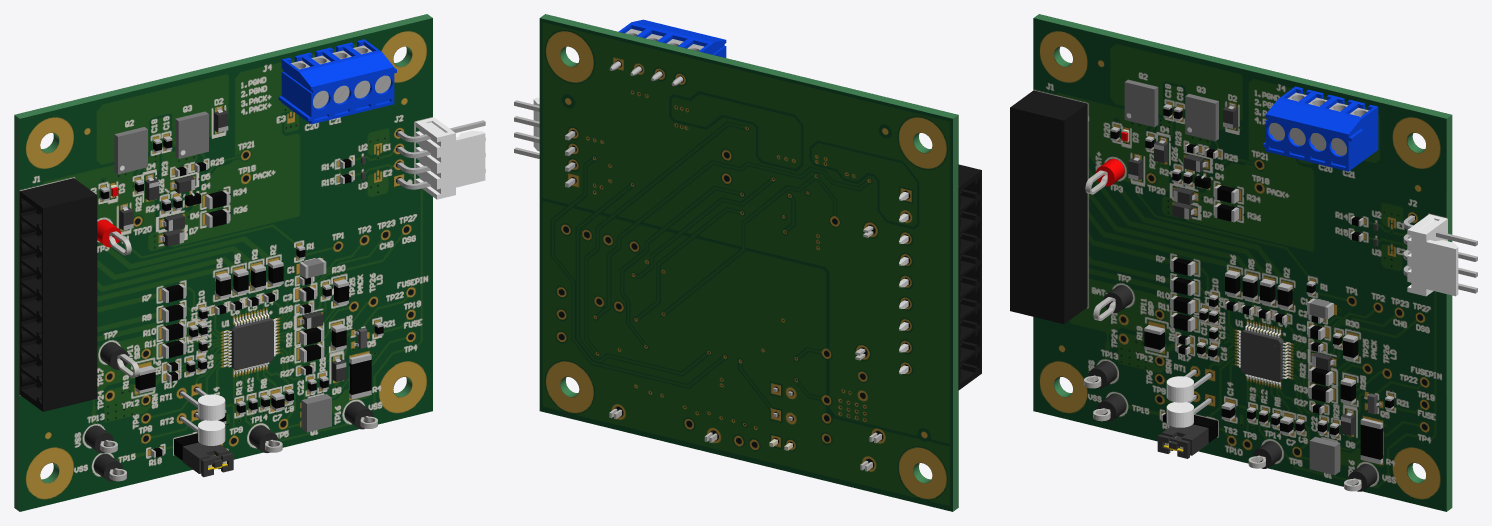
The model's file is Knight_EPS_BMS_Final_green.glb.
The picture shows the model from 3 angles, left to right: view 1: azimuth 30°, elevation 25°; view 2: azimuth 150°, elevation 25°; view 3: azimuth 330°, elevation 25°; orthographic projection.
Parts seen in each view (by area): view 1: Authentic_top_Gerber_layers, CAD_part_030_material0, CAD_part_027_material0, PCB_board_material0, CAD_part_029_material0, CAD_part_036_material0, CAD_part_009_material1, CAD_part_069_material1, CAD_part_027_material1, CAD_part_045_material1, CAD_part_029_material1, CAD_part_070_material0 (+4 smaller); view 2: Authentic_bottom_Gerber_layers, PCB_board_material0, CAD_part_030_material0, CAD_part_027_material0, CAD_part_029_material1, CAD_part_030_material1, CAD_part_027_material1; view 3: Authentic_top_Gerber_layers, CAD_part_030_material0, CAD_part_027_material0, PCB_board_material0, CAD_part_029_material0, CAD_part_036_material0, CAD_part_069_material1, CAD_part_009_material1, CAD_part_027_material1, CAD_part_045_material1, CAD_part_070_material0, CAD_part_029_material1 (+4 smaller).
Boxes of the visible parts, x1=… form: Authentic_top_Gerber_layers: x1=19, y1=18, x2=432, y2=511; CAD_part_030_material0: x1=19, y1=178, x2=97, y2=411; CAD_part_027_material0: x1=278, y1=39, x2=396, y2=124; PCB_board_material0: x1=14, y1=14, x2=432, y2=511; CAD_part_029_material0: x1=415, y1=117, x2=485, y2=199; CAD_part_036_material0: x1=230, y1=317, x2=273, y2=370; CAD_part_009_material1: x1=175, y1=111, x2=208, y2=158; CAD_part_069_material1: x1=114, y1=127, x2=147, y2=174; CAD_part_027_material1: x1=291, y1=45, x2=390, y2=108; CAD_part_045_material1: x1=182, y1=442, x2=233, y2=477; CAD_part_029_material1: x1=397, y1=120, x2=485, y2=189; CAD_part_070_material0: x1=301, y1=394, x2=331, y2=432; Authentic_bottom_Gerber_layers: x1=539, y1=18, x2=952, y2=511; PCB_board_material0: x1=540, y1=14, x2=958, y2=511; CAD_part_030_material0: x1=958, y1=164, x2=981, y2=390; CAD_part_027_material0: x1=618, y1=19, x2=726, y2=57; CAD_part_029_material1: x1=514, y1=100, x2=575, y2=187; CAD_part_030_material1: x1=899, y1=192, x2=908, y2=374; CAD_part_027_material1: x1=609, y1=29, x2=703, y2=86; Authentic_top_Gerber_layers: x1=1033, y1=18, x2=1446, y2=511; CAD_part_030_material0: x1=1010, y1=90, x2=1087, y2=323; CAD_part_027_material0: x1=1263, y1=86, x2=1378, y2=171; PCB_board_material0: x1=1034, y1=14, x2=1452, y2=511; CAD_part_029_material0: x1=1407, y1=214, x2=1458, y2=296; CAD_part_036_material0: x1=1240, y1=329, x2=1283, y2=381; CAD_part_069_material1: x1=1124, y1=79, x2=1158, y2=127; CAD_part_009_material1: x1=1185, y1=94, x2=1218, y2=141; CAD_part_027_material1: x1=1269, y1=92, x2=1368, y2=155; CAD_part_045_material1: x1=1157, y1=424, x2=1208, y2=458; CAD_part_070_material0: x1=1309, y1=436, x2=1340, y2=475; CAD_part_029_material1: x1=1403, y1=215, x2=1477, y2=293.
Size of the model in its own units: 76.76 by 63.5 by 12.54.
Materials: 23 (2 with a texture image).
